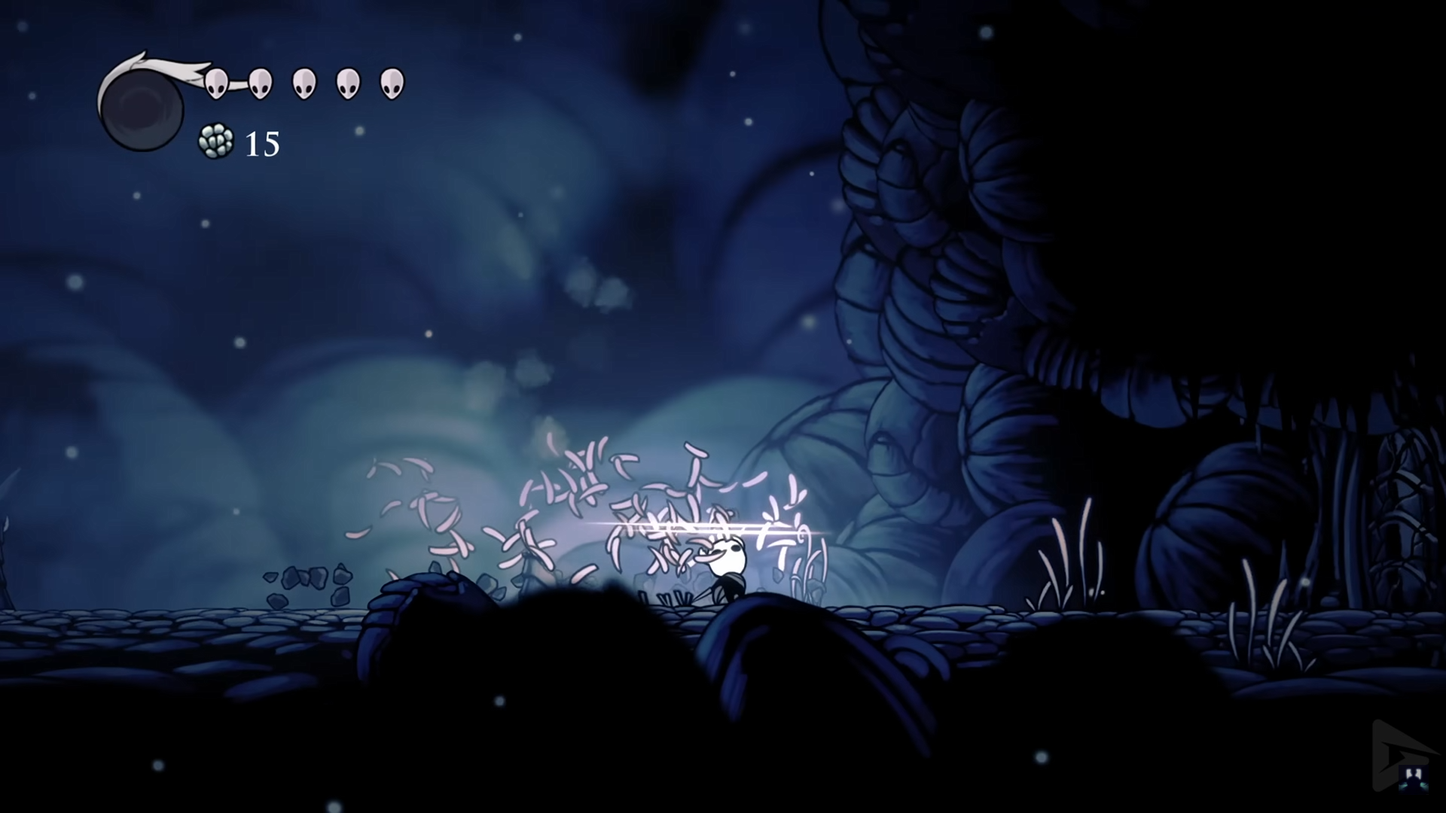HK: (703, 510, 752, 610)
